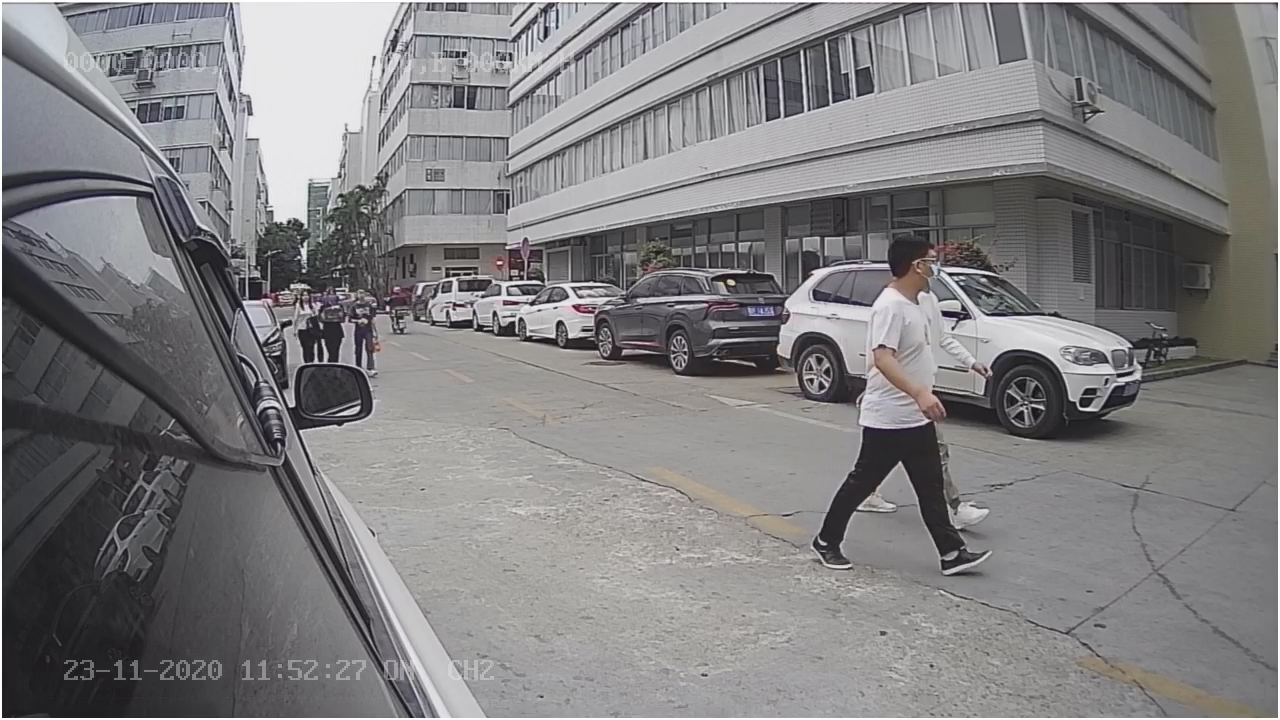person: (847, 236, 970, 587)
